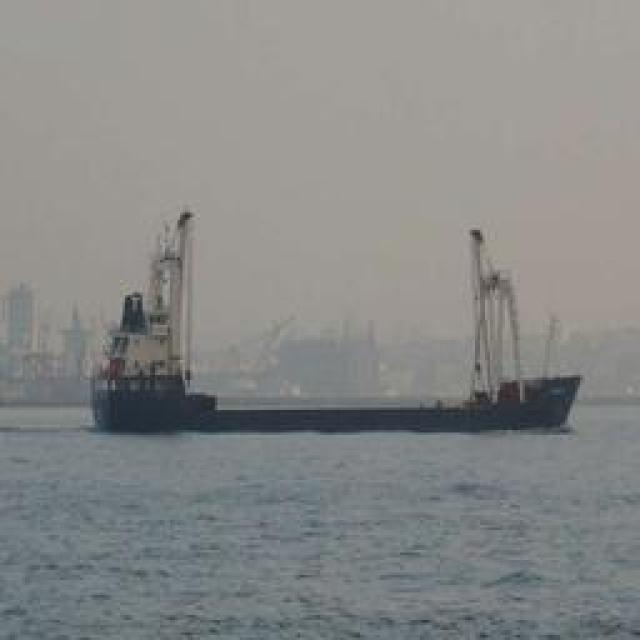Ship: (91, 205, 584, 439)
